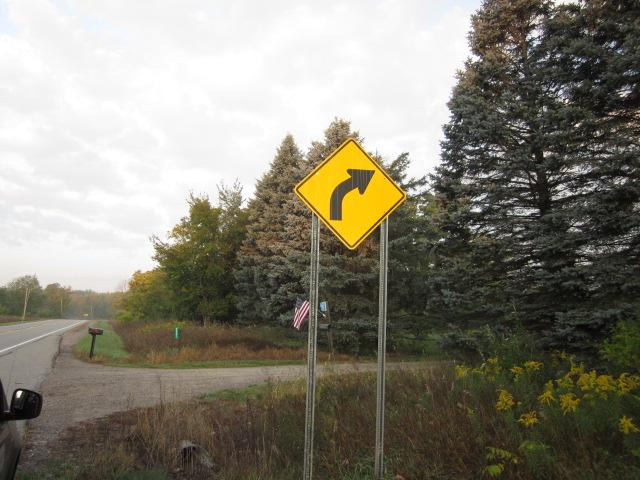warning: (296, 138, 407, 252)
